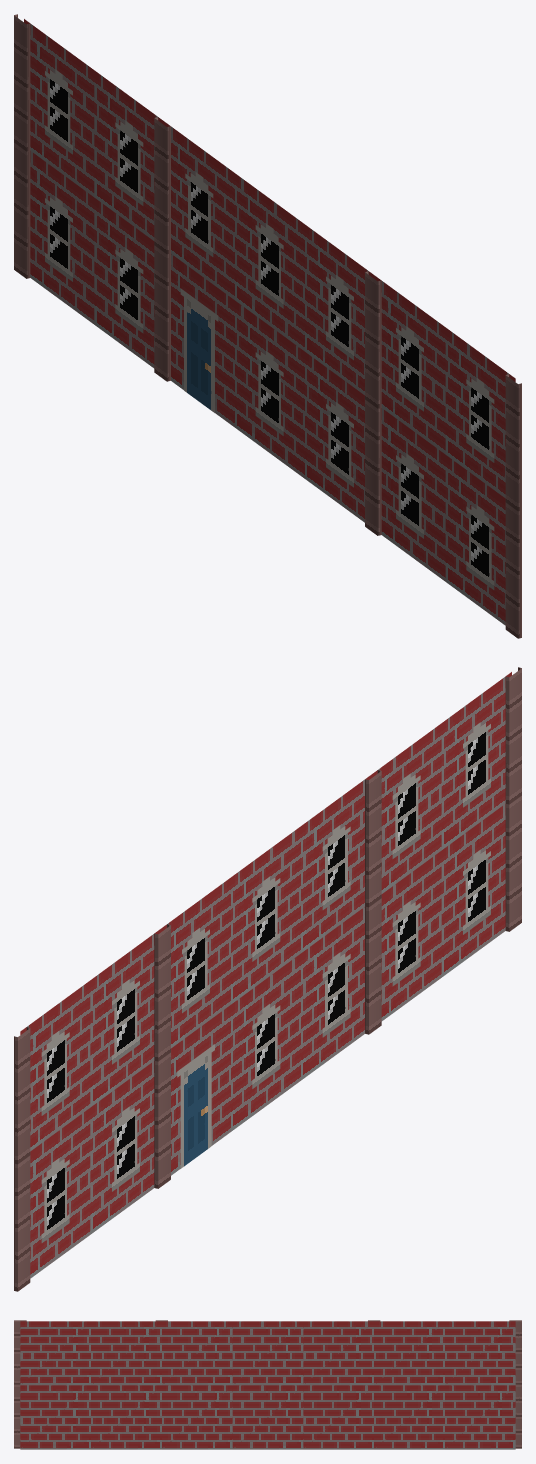
Rendered from BrickWall.fbx.
3 renders of one model, top to bottom at view 1: azimuth 30°, elevation 25°; view 2: azimuth 150°, elevation 25°; view 3: azimuth 270°, elevation 25°, orthographic. The views are drawn at different scales.
Visible parts, largest first — view 1: BrickWall; view 2: BrickWall; view 3: BrickWall.
Boxes of the visible parts, x1,y1,x2,y2 form: BrickWall: [14, 14, 521, 638]; BrickWall: [14, 667, 521, 1291]; BrickWall: [14, 1320, 521, 1449].
Size of the model in its own units: 16.03 by 1000 by 3589.
1 material, 1 textured.
